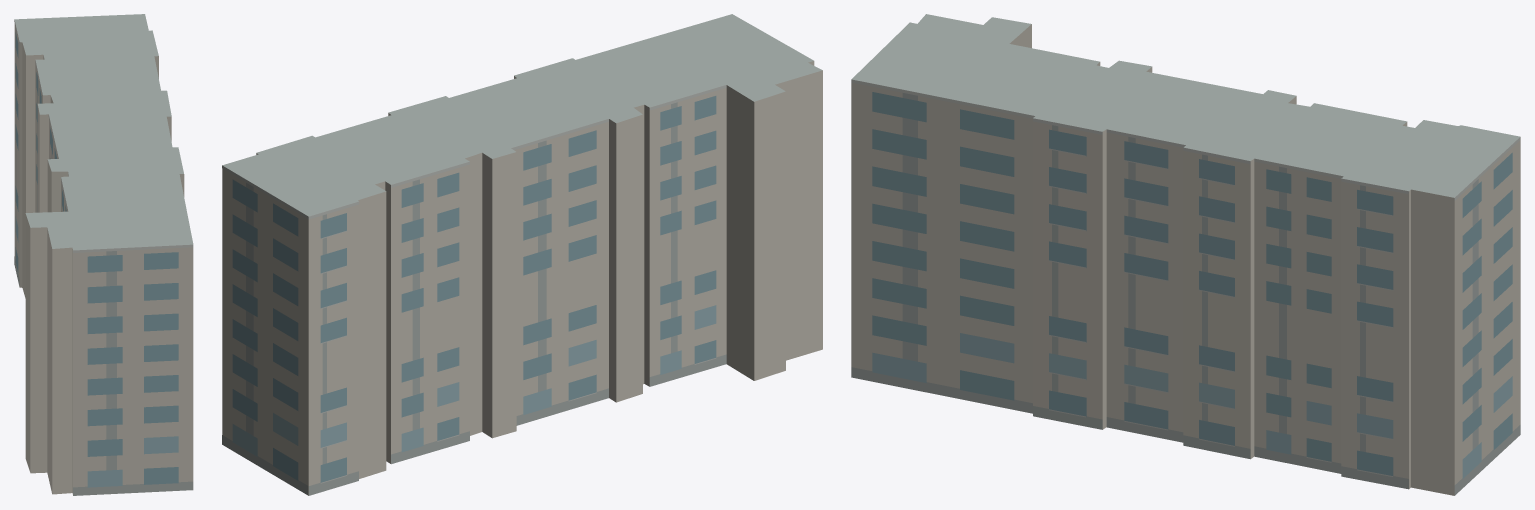
The model's file is survey-upis-32552700.glb.
3 views of the same model, side by side, from view 1: azimuth 30°, elevation 25°; view 2: azimuth 150°, elevation 25°; view 3: azimuth 270°, elevation 25° (orthographic). The views are drawn at different scales.
Visible parts, largest first — view 1: survey-upis-32552700.tmp; view 2: survey-upis-32552700.tmp; view 3: survey-upis-32552700.tmp.
Part boxes in pixels (x1,y1,x2,y2): survey-upis-32552700.tmp: (14,14,193,495); survey-upis-32552700.tmp: (222,14,822,495); survey-upis-32552700.tmp: (851,14,1520,495).
Size of the model in its own units: 30.57 by 23.1 by 47.02.
